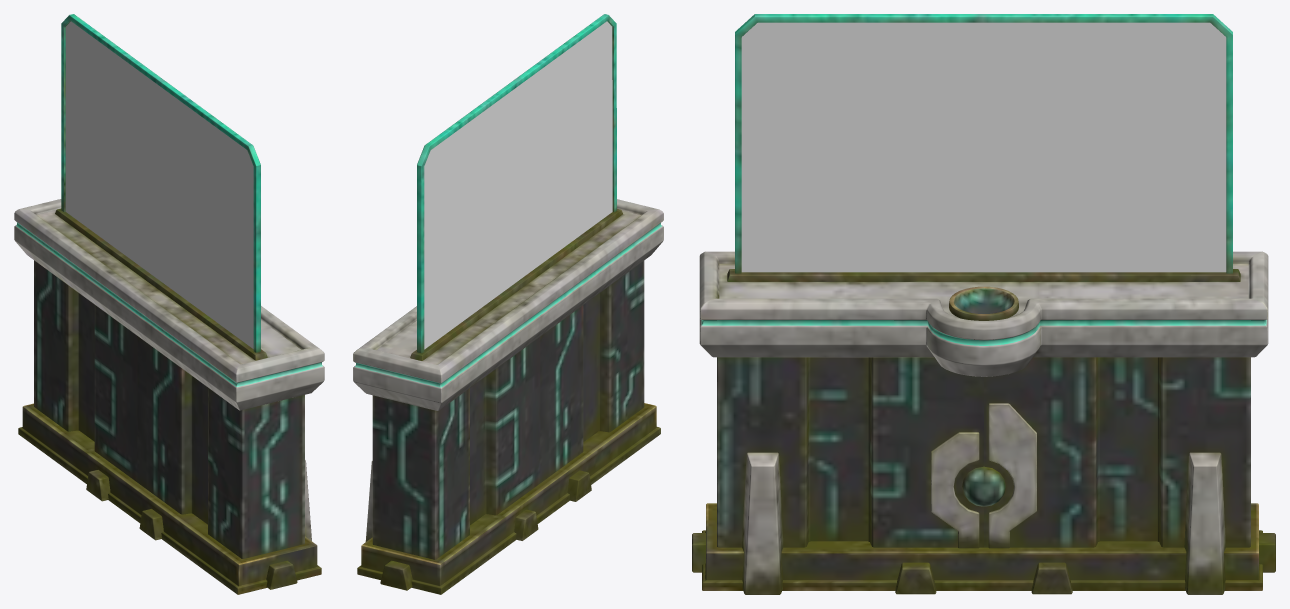
Rendered from SM_PalBox_a094c8.glb.
3 views of the same model, side by side, from view 1: azimuth 30°, elevation 25°; view 2: azimuth 150°, elevation 25°; view 3: azimuth 270°, elevation 25° (orthographic). The views are drawn at different scales.
Size of the model in its own units: 0.5743 by 1.85 by 1.8.
2 materials, 1 textured.
